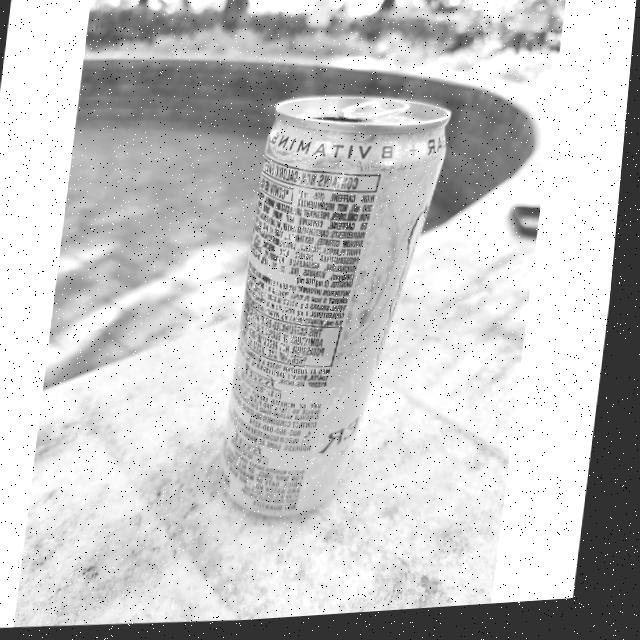White Monster: (191, 84, 473, 533)
